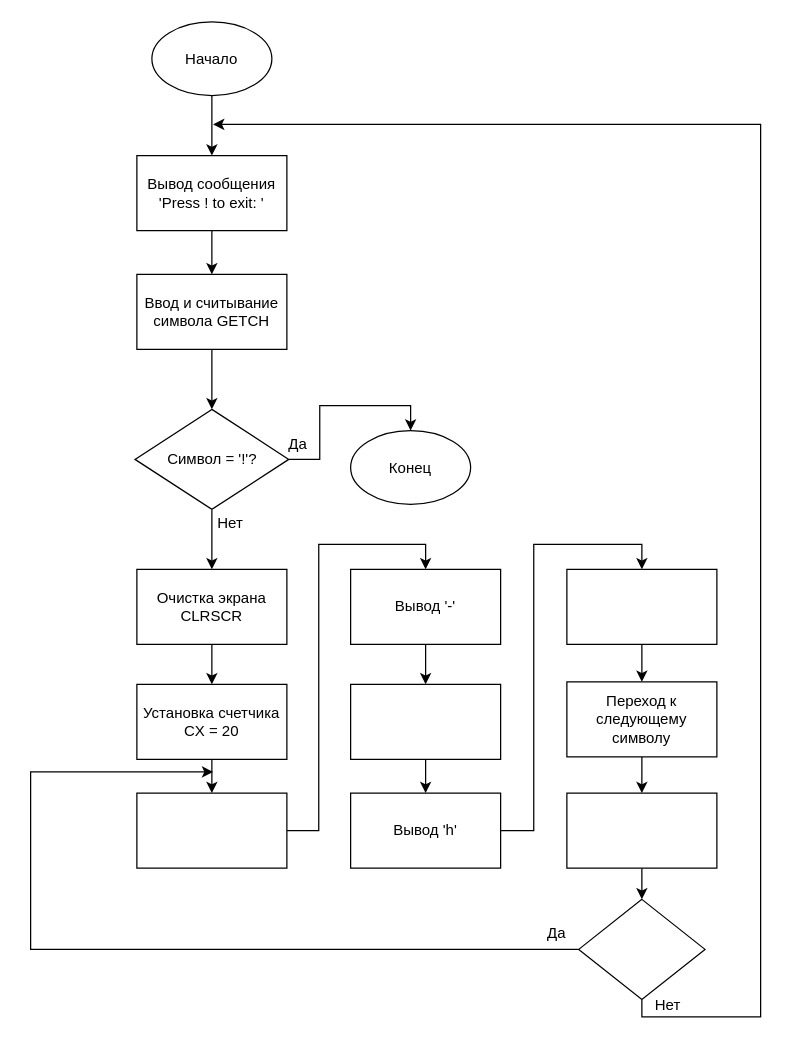
This 793x1049 diagram has some shape labels left out. Each missing label, with the centre of its shape:
CX != '0'?: [641,948]
Ввод символа BL: [211,830]
Конвертация символа в HEX: [425,721]
Перенос строки: [641,606]
Уменьшение CX: [641,830]
